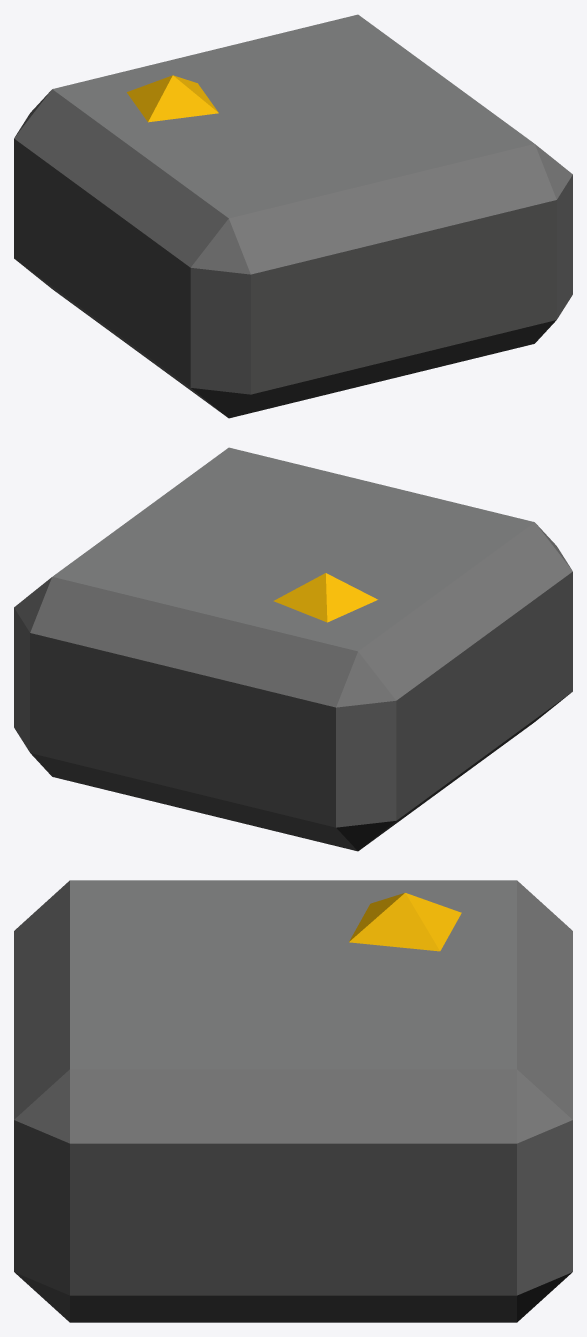
File: m_kub_ore_flatMini.FBX
3 renders of one model, top to bottom at view 1: azimuth 30°, elevation 25°; view 2: azimuth 150°, elevation 25°; view 3: azimuth 270°, elevation 25°, orthographic. The views are drawn at different scales.
Visible parts, largest first — view 1: m_kub_ore_flatMini; view 2: m_kub_ore_flatMini; view 3: m_kub_ore_flatMini.
Boxes of the visible parts, x1,y1,x2,y2 form: m_kub_ore_flatMini: (14,14,572,418); m_kub_ore_flatMini: (14,447,572,851); m_kub_ore_flatMini: (14,880,572,1322).
Size of the model in its own units: 1 by 0.5688 by 1.
